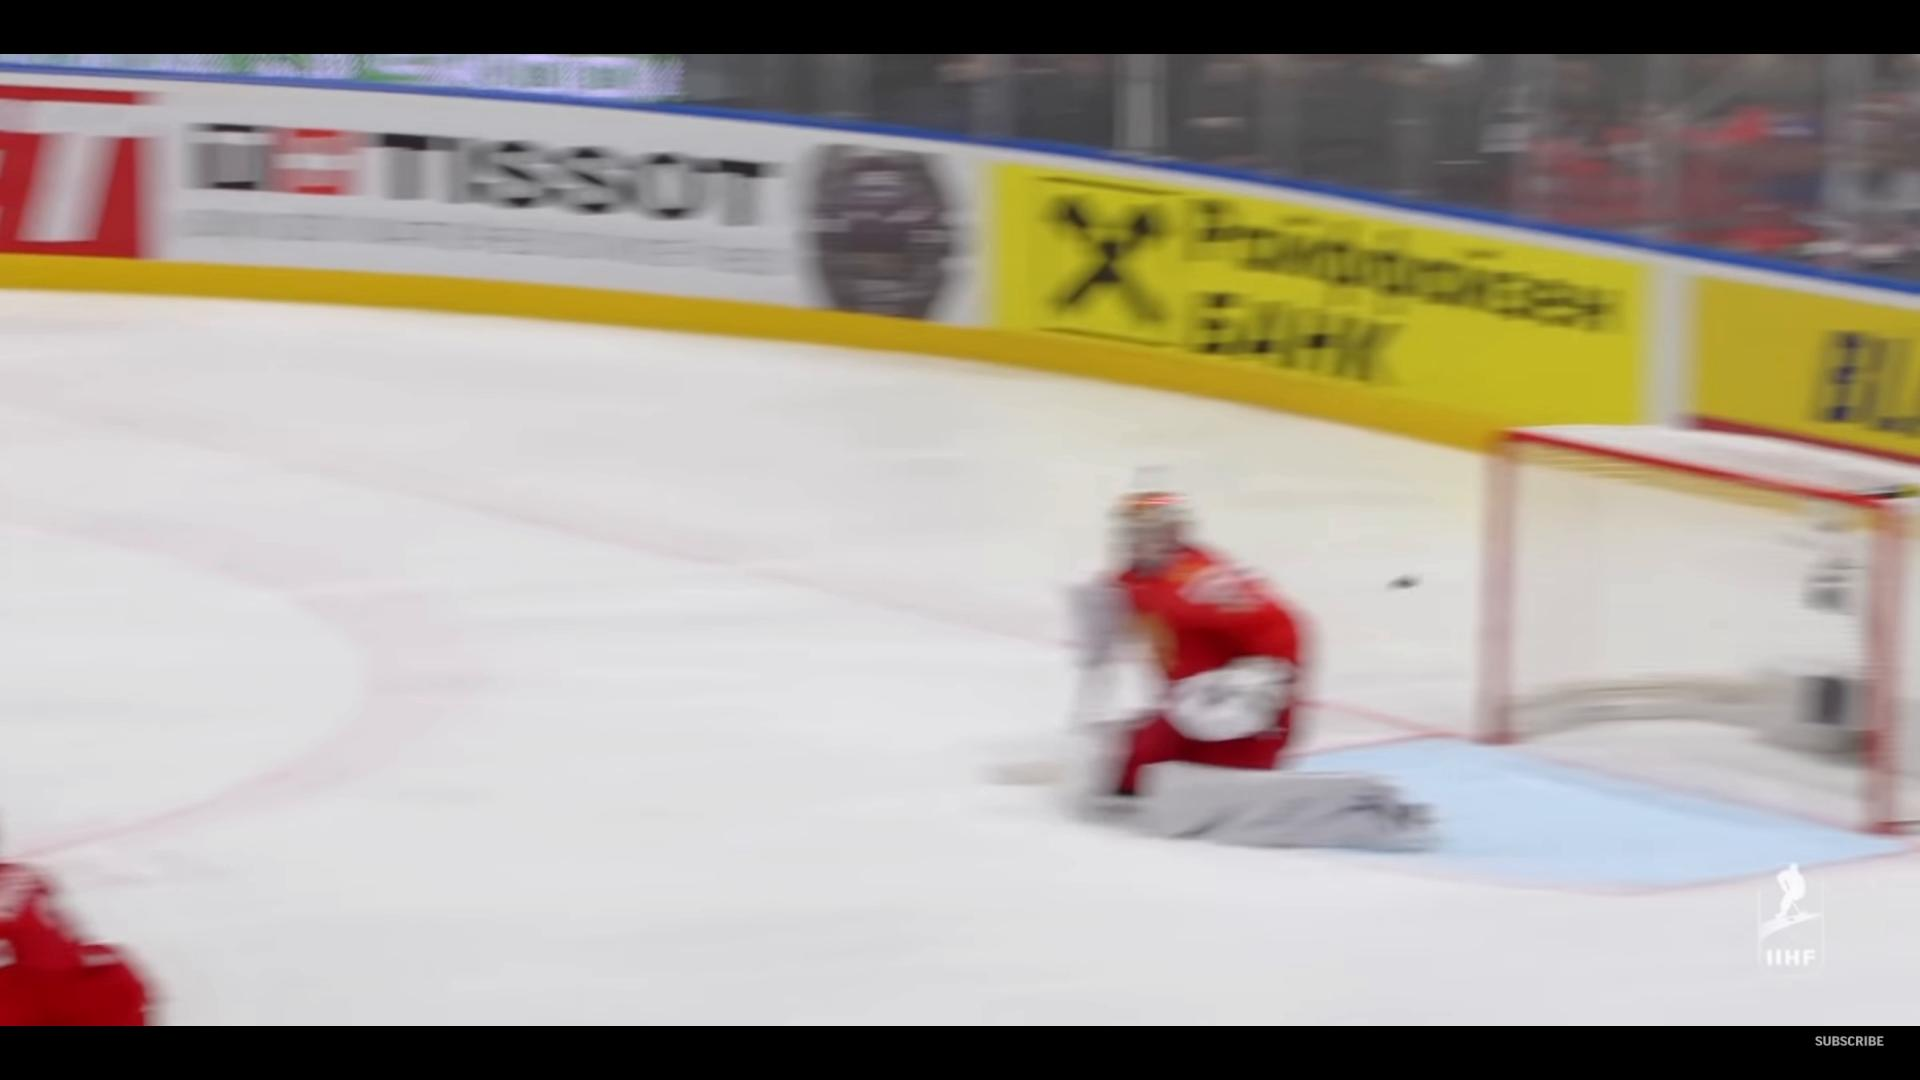puck: (1385, 571, 1420, 592)
